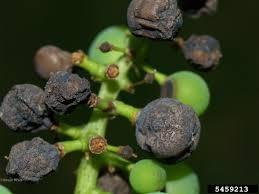Grape Rotten: (0, 0, 221, 193), (136, 99, 200, 162)
